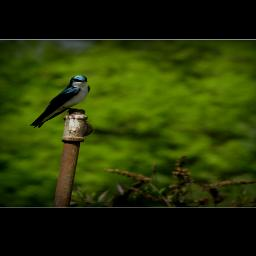Swallow: (29, 74, 91, 130)
